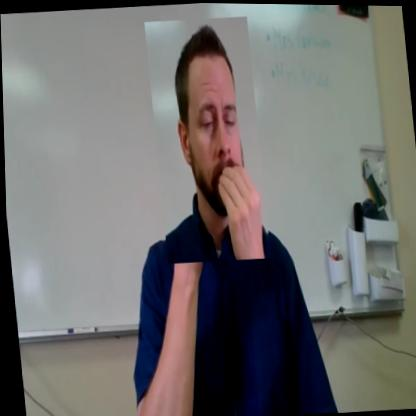Food: (144, 15, 270, 264)
